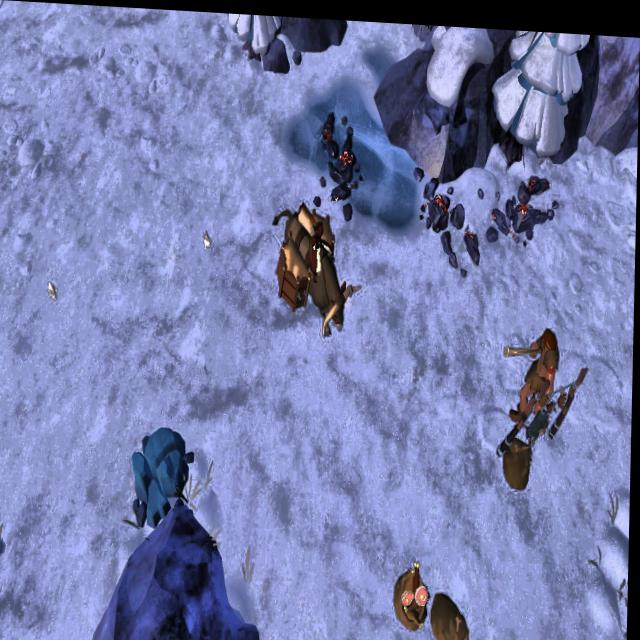enemy_factionKeeper: (504, 321, 560, 421)
rock_t4: (130, 421, 196, 530)
